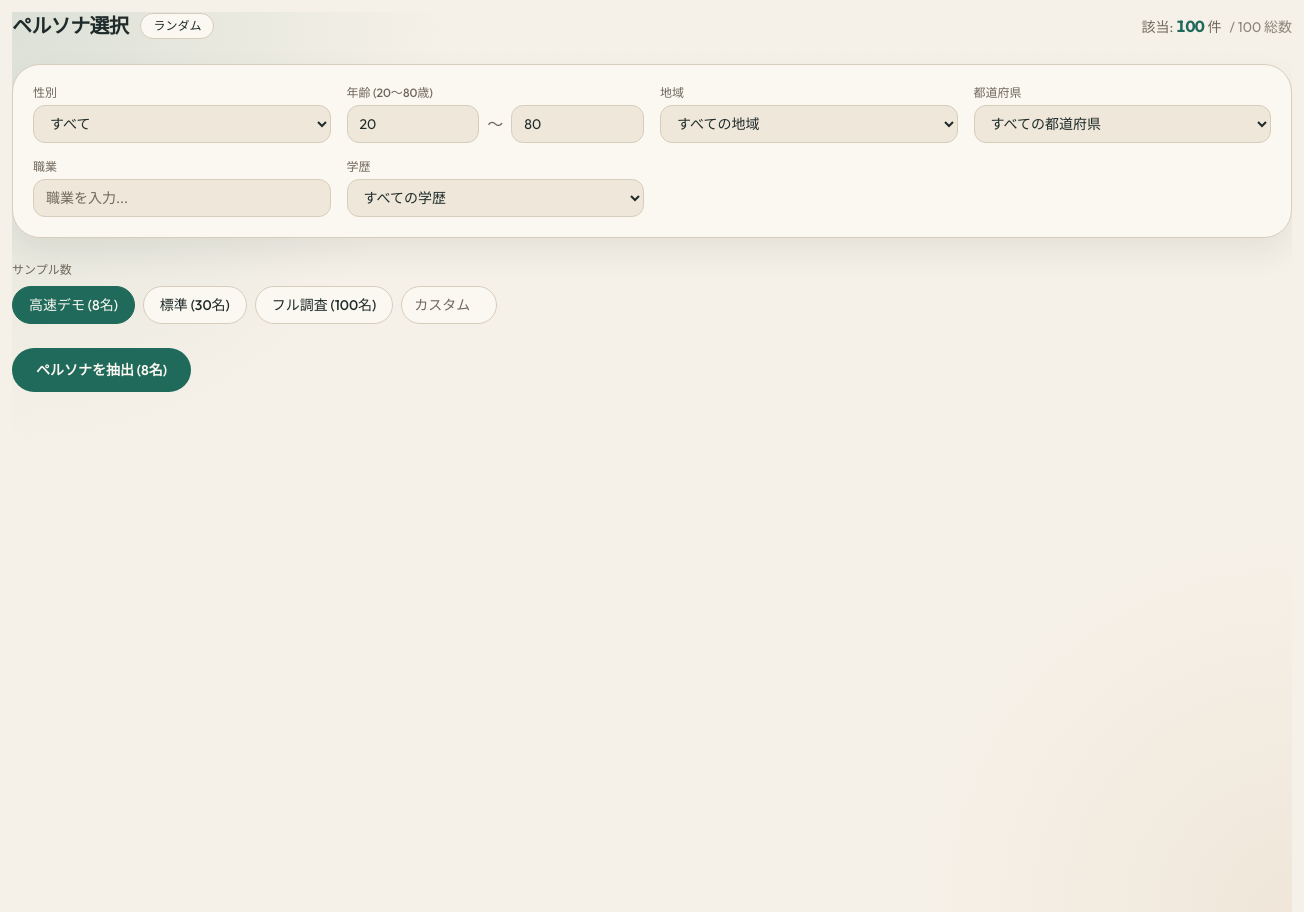
FilterPanel › latest filter selection wins over stale response
Select "男性" in the dropdown below "性別" at (182, 124), box [33,105,330,143]
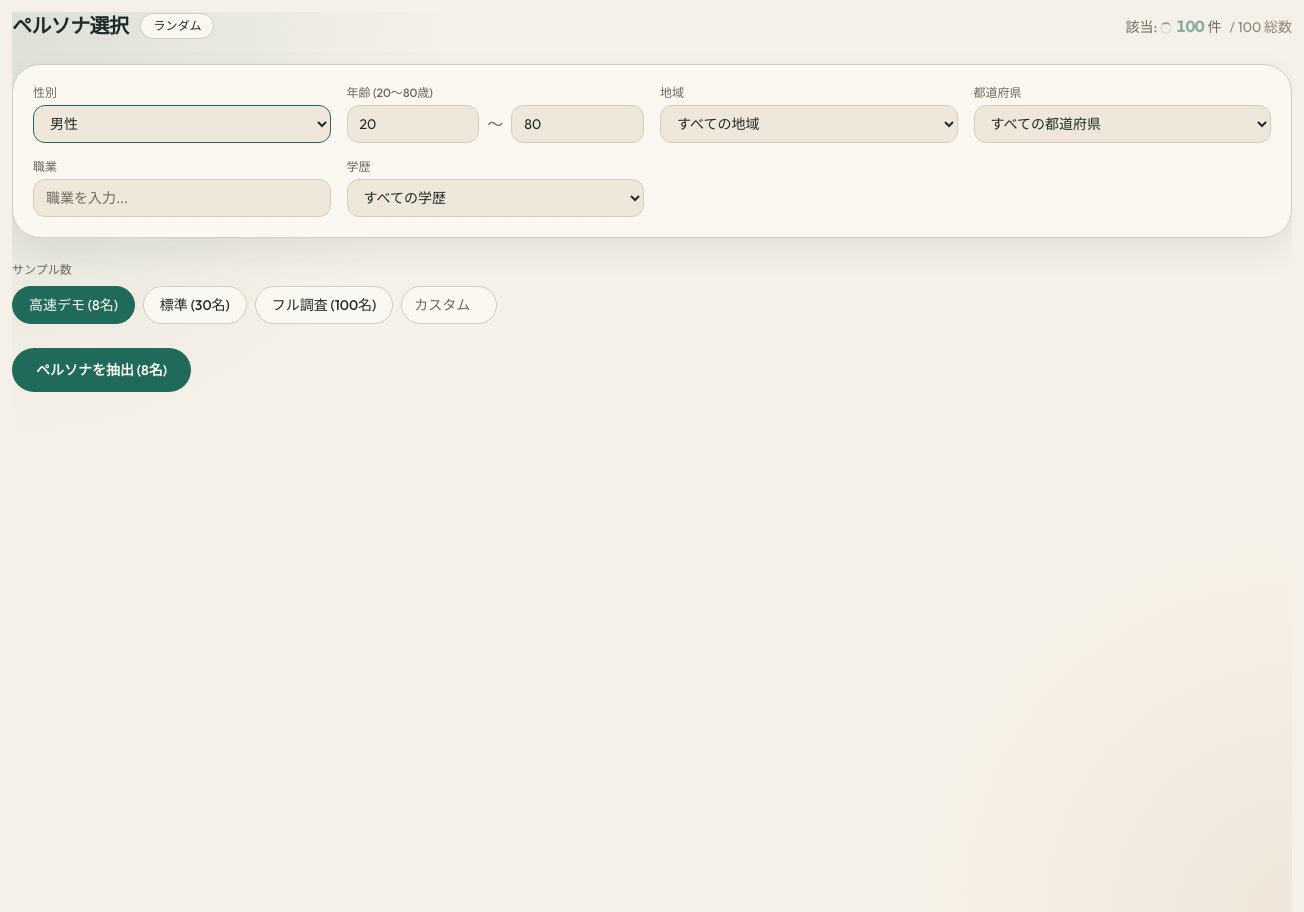
Select "女性" in the dropdown below "性別" at (182, 124), box [33,105,330,143]
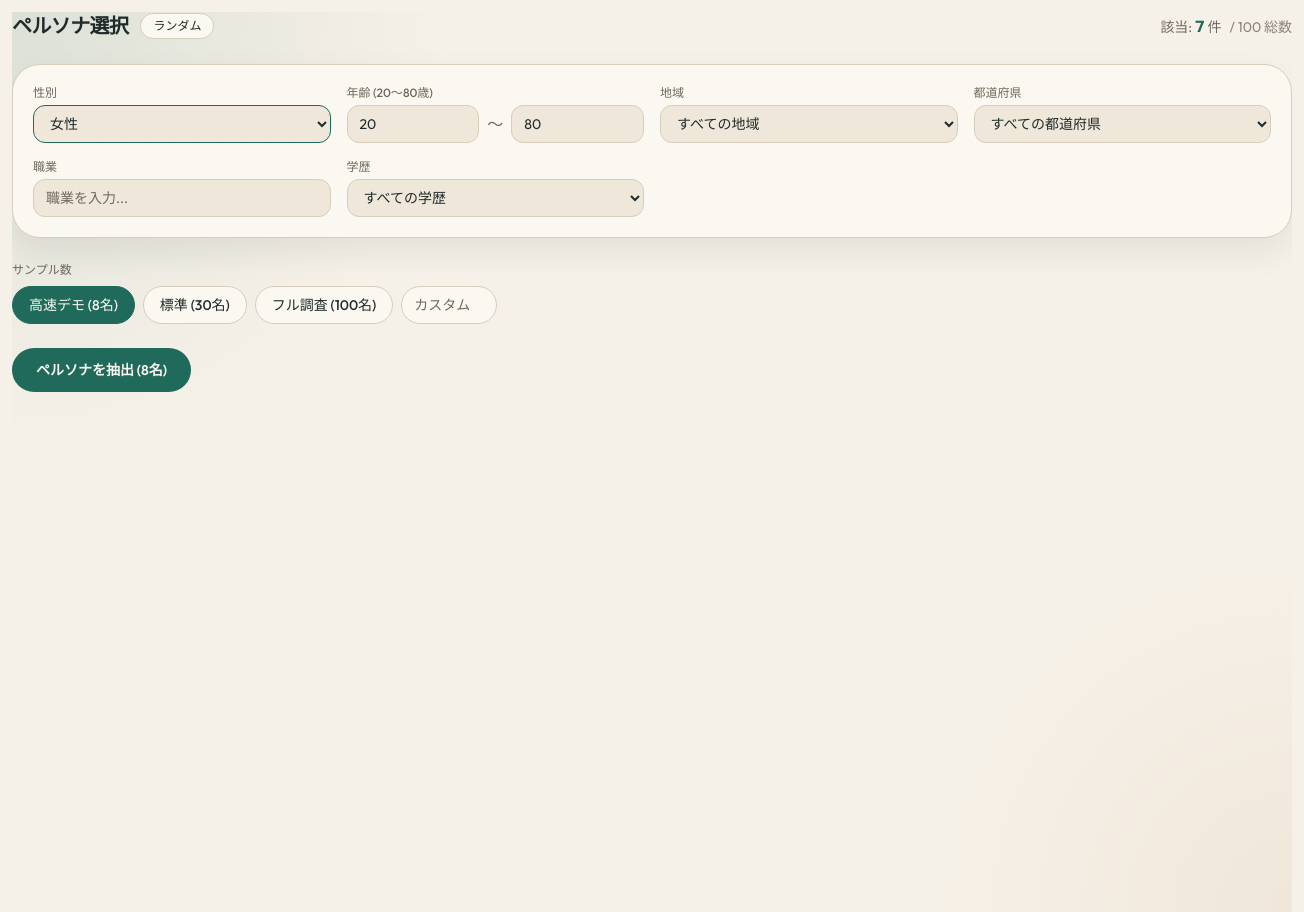
Result: the text with test id "match-count" reads "7" at [1195,16,1205,36]
